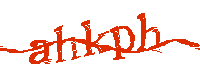a: (29, 39, 51, 66)
h: (53, 25, 81, 62), (137, 12, 161, 54)
k: (81, 20, 110, 57)
p: (111, 24, 135, 62)
